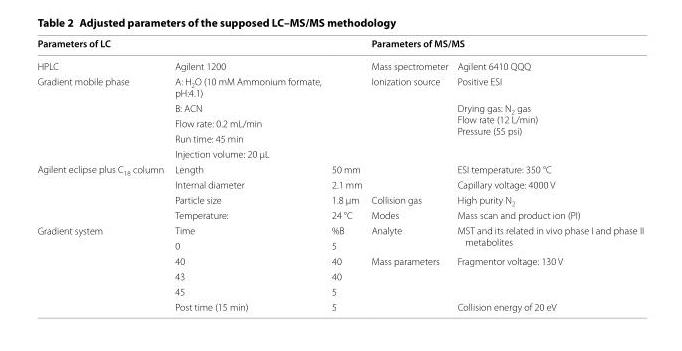table: (36, 37, 643, 312)
table column: (452, 37, 643, 312), (36, 37, 168, 312), (168, 37, 289, 312), (366, 37, 452, 312), (289, 37, 366, 312)
table column header: (36, 37, 643, 54)
table row: (36, 73, 643, 100), (36, 54, 643, 73), (36, 37, 643, 54), (36, 191, 643, 208), (36, 145, 643, 161), (36, 237, 643, 253), (36, 100, 643, 115), (36, 115, 643, 130), (36, 130, 643, 145), (36, 161, 643, 176), (36, 176, 643, 191), (36, 222, 643, 237), (36, 253, 643, 268), (36, 268, 643, 283), (36, 283, 643, 298), (36, 208, 643, 222), (36, 298, 643, 312)
table spanning cell: (36, 222, 168, 312), (452, 100, 643, 161), (36, 73, 168, 161), (366, 73, 452, 191), (452, 253, 643, 298), (36, 161, 168, 222), (452, 222, 643, 253), (36, 37, 366, 54), (168, 73, 366, 100), (366, 253, 452, 312), (366, 37, 643, 54), (168, 54, 366, 73), (168, 145, 366, 161), (168, 100, 366, 115), (168, 115, 366, 130), (168, 130, 366, 145), (366, 222, 452, 253)
